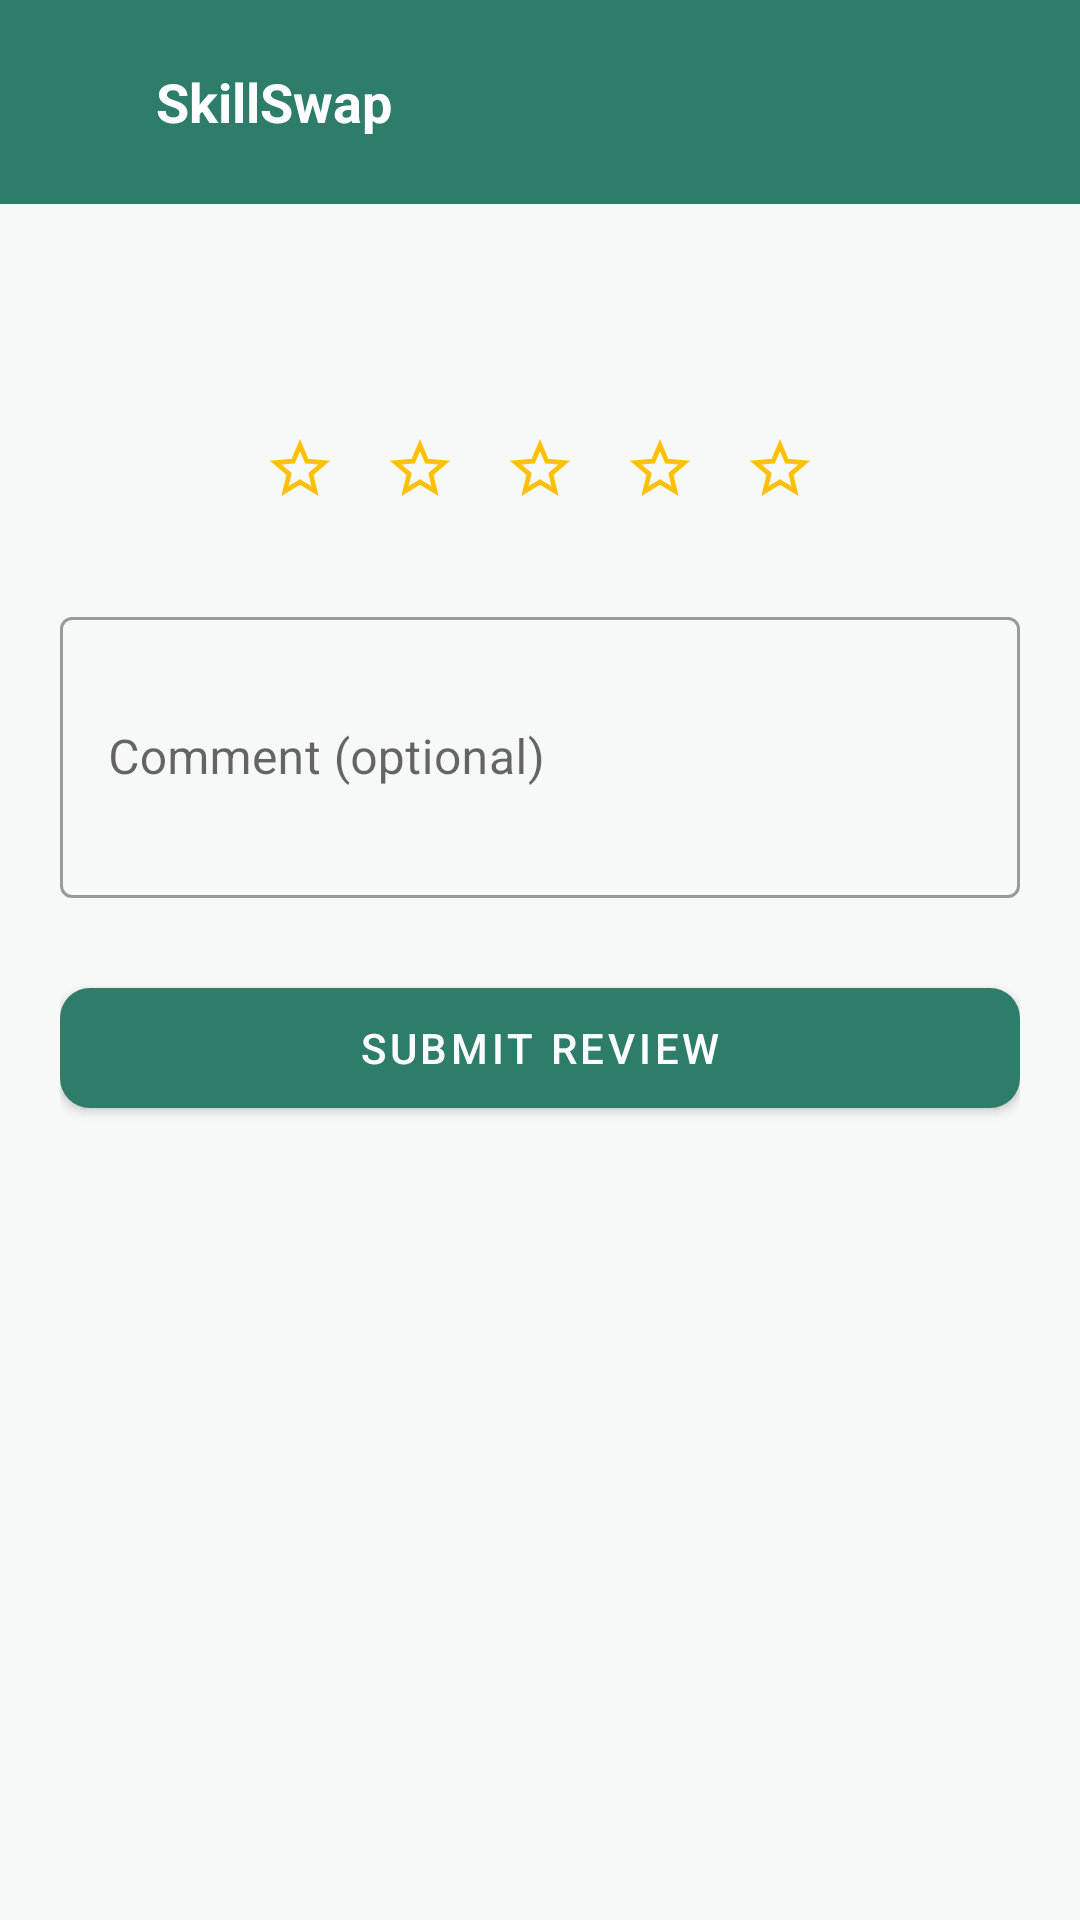

Where to tap for icons on this 1080*1920 app screen, as (x,y):
1 star: (300,467)
2 stars: (420,467)
3 stars: (540,467)
4 stars: (660,467)
5 stars: (780,467)
